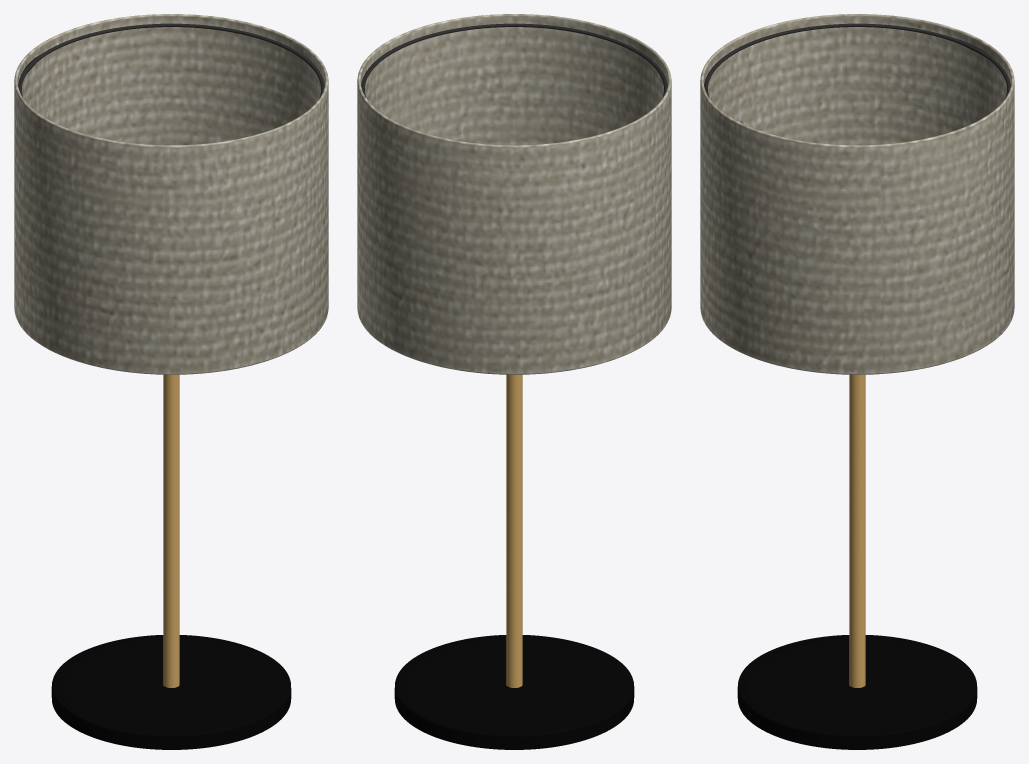
File: IkeaLamp.fbx
3 views of the same model, side by side, from view 1: azimuth 30°, elevation 25°; view 2: azimuth 150°, elevation 25°; view 3: azimuth 270°, elevation 25° (orthographic).
Visible parts, largest first — view 1: Ikea Night Lamp_16; view 2: Ikea Night Lamp_16; view 3: Ikea Night Lamp_16.
Boxes of the visible parts, bbox=[...] form: Ikea Night Lamp_16: bbox=[14, 14, 328, 749]; Ikea Night Lamp_16: bbox=[357, 14, 671, 749]; Ikea Night Lamp_16: bbox=[700, 14, 1014, 749].
Size of the model in its own units: 18.88 by 41.09 by 18.88.
